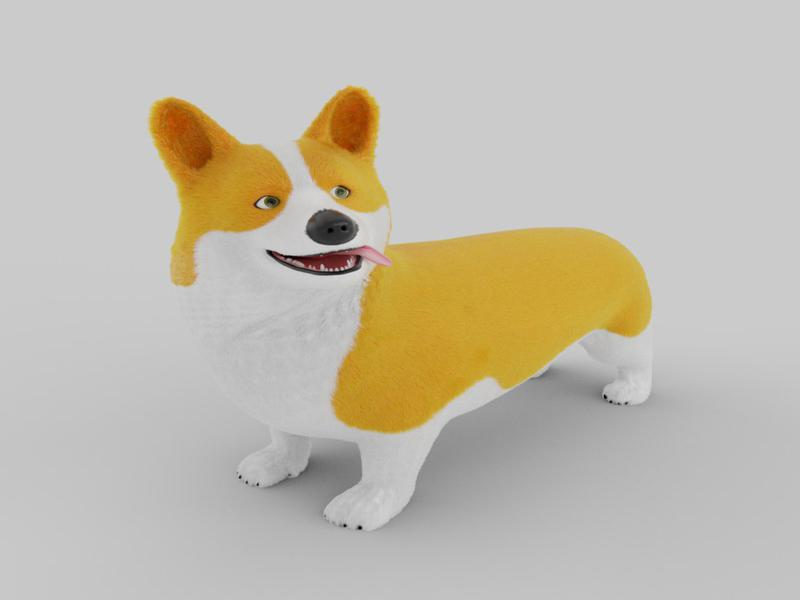corgi: (149, 86, 395, 286)
